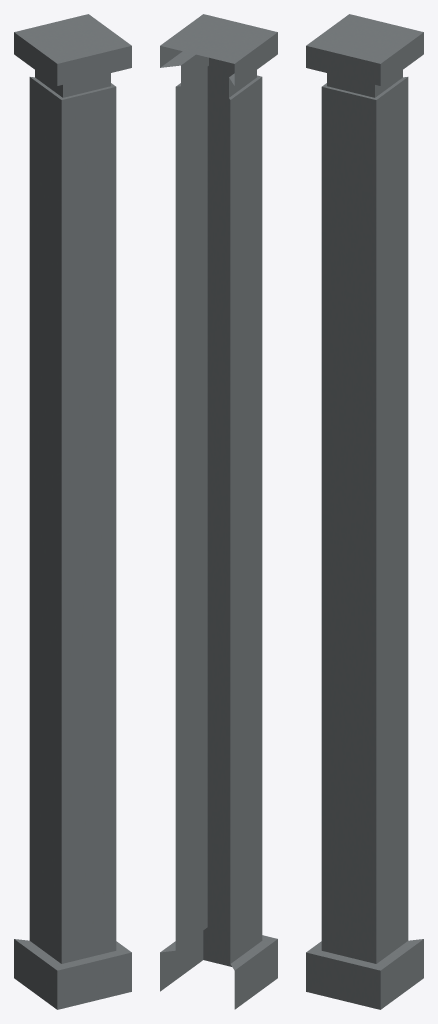
File: SM_CornerColumn.fbx
The picture shows the model from 3 angles, left to right: view 1: azimuth 30°, elevation 25°; view 2: azimuth 150°, elevation 25°; view 3: azimuth 330°, elevation 25°; orthographic projection.
Visible parts, largest first — view 1: polySurface9; view 2: polySurface9; view 3: polySurface9.
Boxes of the visible parts, x1=… form: polySurface9: x1=14, y1=14, x2=131, y2=1009; polySurface9: x1=160, y1=14, x2=277, y2=1009; polySurface9: x1=306, y1=14, x2=423, y2=1009.
Bounding box in the file's own units: 0.6871 × 8.33 × 0.6924.
